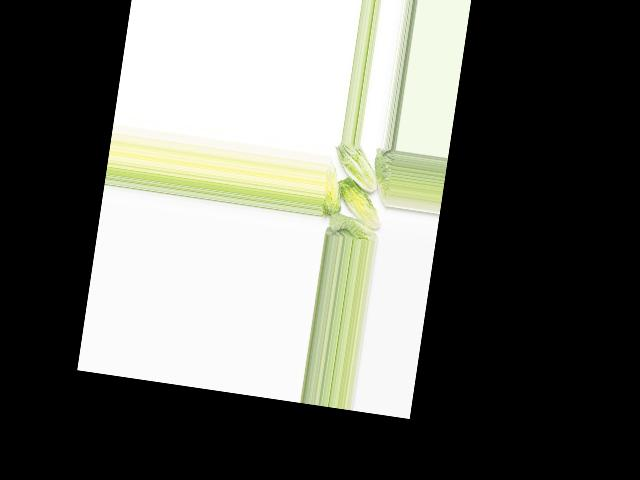lettuce: (324, 210, 379, 242)
